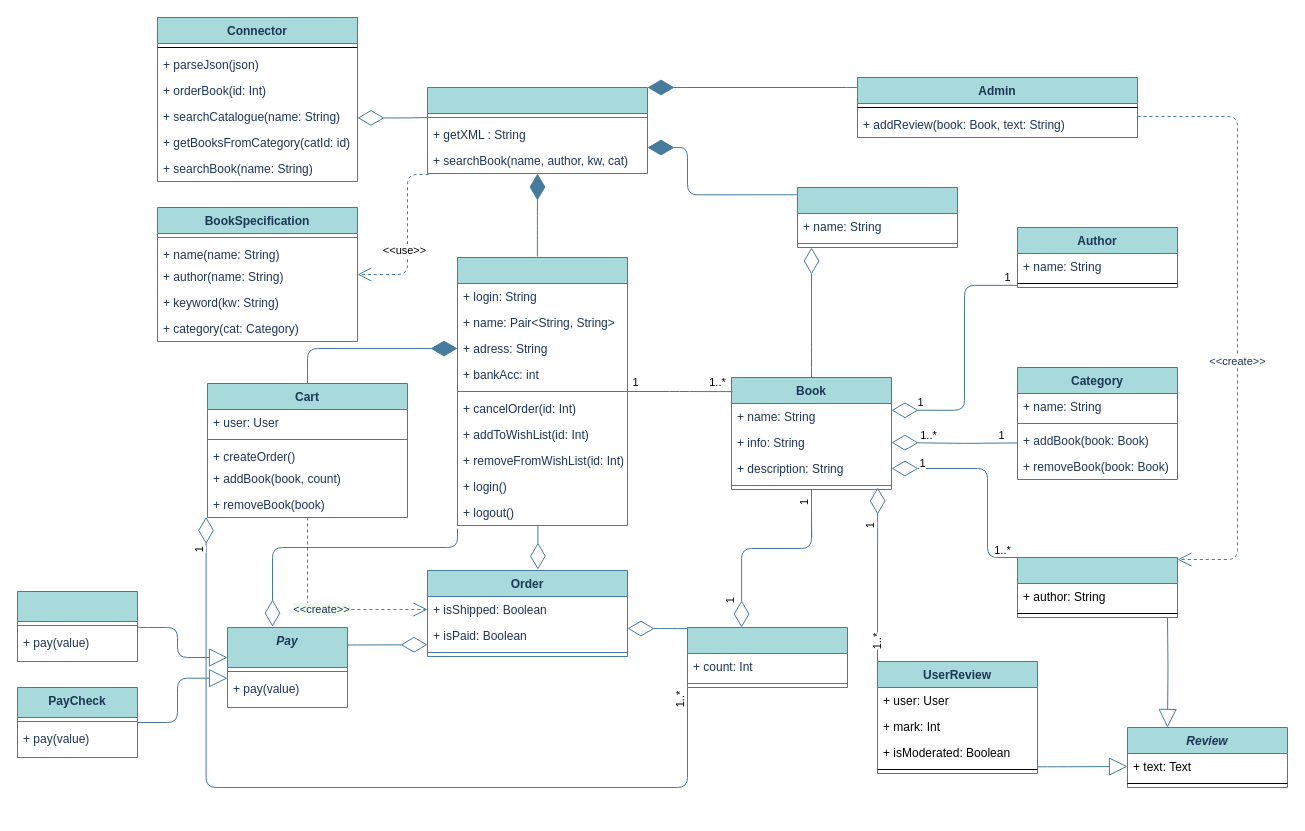
The diagram is 1305 pixels wide and 831 high, and some of its shapes have lost their labels. The shapes that lost their labels are listed below. From the top down, each one's box as (x1, y1, x2, y2) in pixels, then its label:
(426, 86, 648, 174): Shop
(796, 186, 958, 248): Catalogue
(456, 256, 628, 526): User
(1016, 556, 1178, 618): RedactorReview
(16, 590, 138, 662): PayCard
(686, 626, 848, 688): OrderElement
